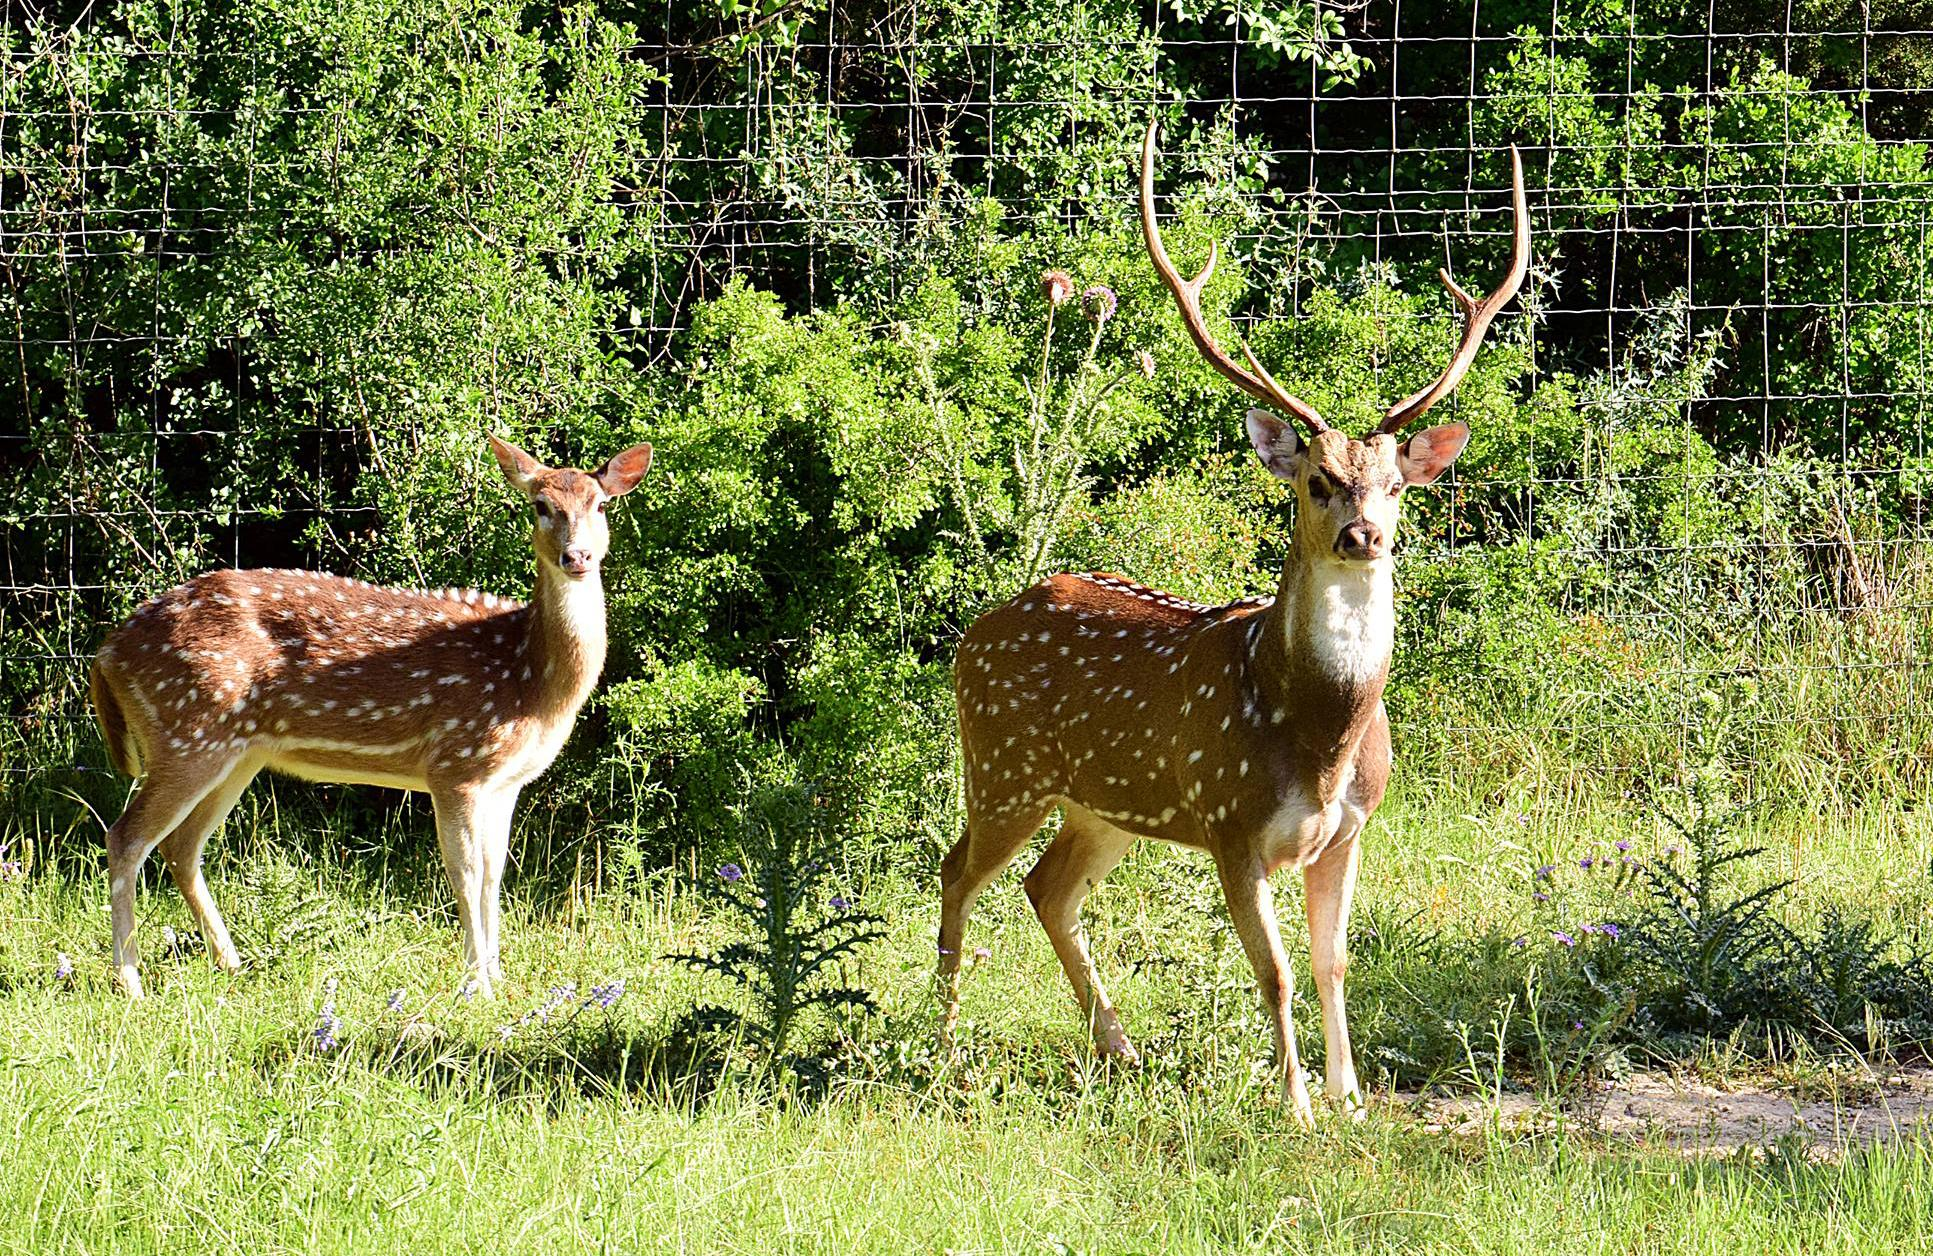Deer: (937, 121, 1529, 1119), (92, 438, 652, 997)
